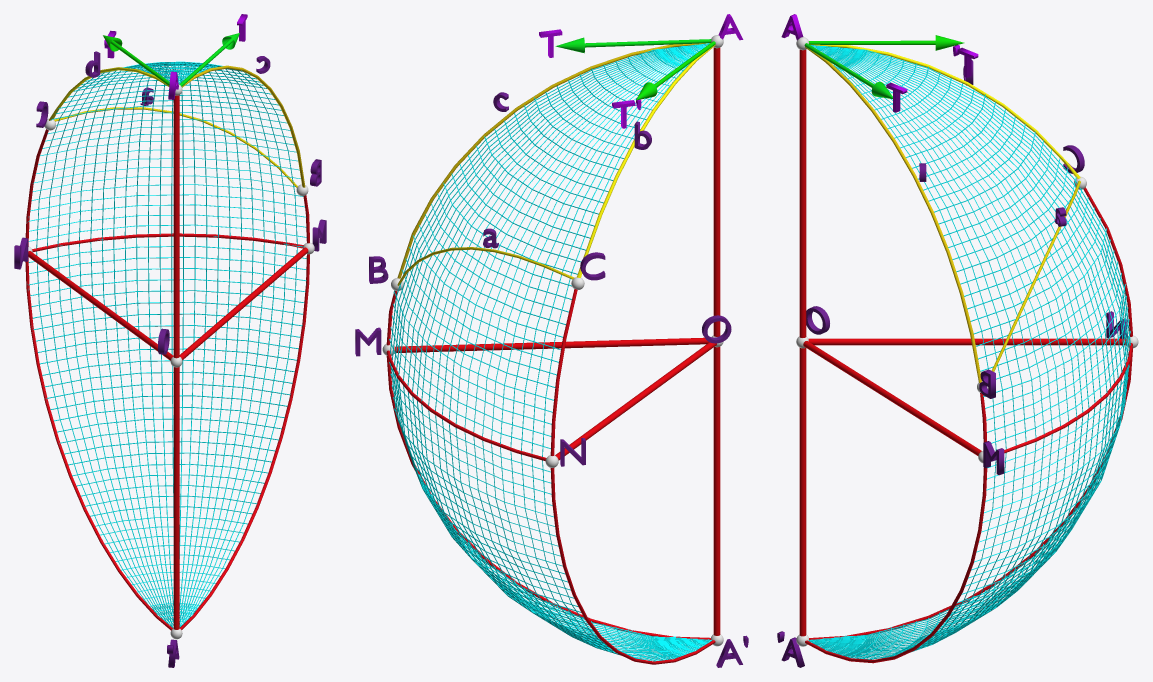
3 renders of one model, left to right at view 1: azimuth 30°, elevation 25°; view 2: azimuth 150°, elevation 25°; view 3: azimuth 270°, elevation 25°, orthographic. The views are drawn at different scales.
Parts seen in each view (by area): view 1: Sphere, Cylinder.001, Torus.005, Torus.006, Cylinder.002, Cylinder.003, Torus.002, Torus.004, Torus.003, Cylinder.004; view 2: Sphere, Cylinder.001, Cylinder.003, Torus.005, Torus.004, Torus.006, Cylinder.002, Torus.001, Cylinder.005, Torus.002, Torus.003, Cylinder.004; view 3: Sphere, Cylinder.001, Cylinder.002, Torus.005, Torus.004, Torus.006, Cylinder.003, Torus.001, Cylinder.004, Torus.002, Torus.003, Cylinder.005.
Boxes of the visible parts, box(x1,y1,x2,y2) form: Sphere: box(27, 61, 306, 628); Cylinder.001: box(173, 95, 179, 629); Torus.005: box(25, 129, 172, 630); Torus.006: box(180, 195, 309, 629); Cylinder.002: box(28, 251, 173, 360); Cylinder.003: box(179, 247, 308, 360); Torus.002: box(32, 233, 303, 252); Torus.004: box(182, 65, 305, 187); Torus.003: box(54, 107, 297, 187); Cylinder.004: box(103, 35, 169, 85); Sphere: box(389, 43, 711, 661); Cylinder.001: box(713, 47, 720, 635); Cylinder.003: box(394, 337, 708, 352); Torus.005: box(550, 289, 715, 664); Torus.004: box(397, 43, 710, 278); Torus.006: box(386, 291, 710, 639); Cylinder.002: box(555, 342, 716, 460); Torus.001: box(577, 44, 715, 277); Cylinder.005: box(555, 37, 711, 53); Torus.002: box(386, 350, 546, 461); Torus.003: box(397, 247, 574, 285); Cylinder.004: box(636, 41, 715, 100); Sphere: box(808, 45, 1130, 659); Cylinder.001: box(799, 49, 806, 636); Cylinder.002: box(808, 338, 1126, 345); Torus.005: box(809, 187, 1132, 640); Torus.004: box(805, 46, 981, 383); Torus.006: box(805, 393, 987, 663); Cylinder.003: box(803, 341, 981, 455); Torus.001: box(810, 44, 1080, 178); Cylinder.004: box(808, 35, 964, 50); Torus.002: box(1004, 343, 1132, 453); Torus.003: box(991, 180, 1080, 371); Cylinder.005: box(804, 43, 892, 98).
Bounding box in the file's own units: 1 × 2.17 × 1.1.
